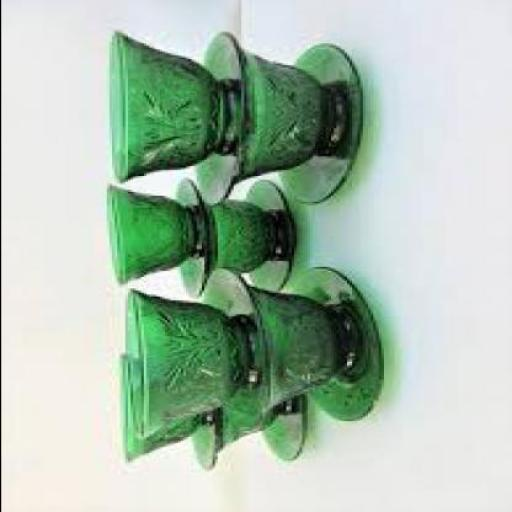glass: (119, 285, 250, 435), (106, 30, 226, 180), (285, 264, 380, 420), (237, 47, 338, 184), (246, 287, 361, 407), (278, 42, 361, 202), (192, 267, 266, 427), (116, 352, 200, 460), (103, 184, 195, 282), (198, 32, 235, 202), (203, 198, 279, 272), (240, 178, 290, 288), (172, 178, 206, 298), (256, 390, 306, 458), (187, 392, 219, 466)
